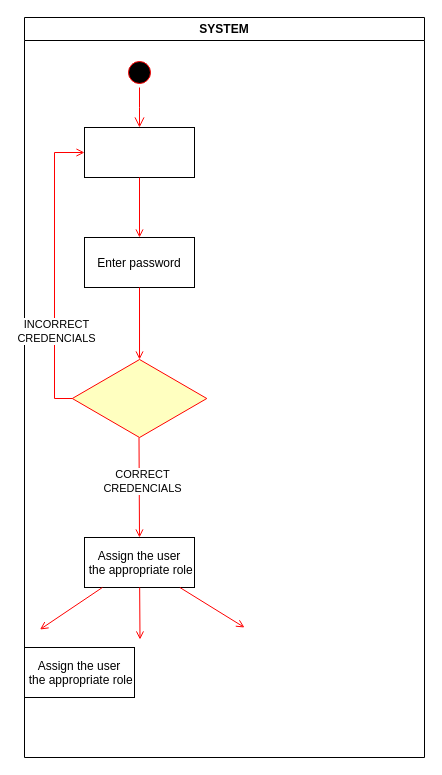
Image size: 442x775. Some labels were removed from this diagram. Here are the shapes that lost their labels. From the top down, the centre of each, then its label:
At point 139,152: "Enter username".
At point 139,398: "Check user credentials".
